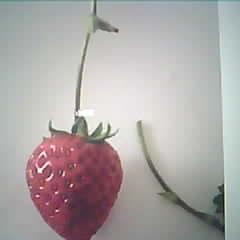straw-ripe: (26, 129, 124, 240)
